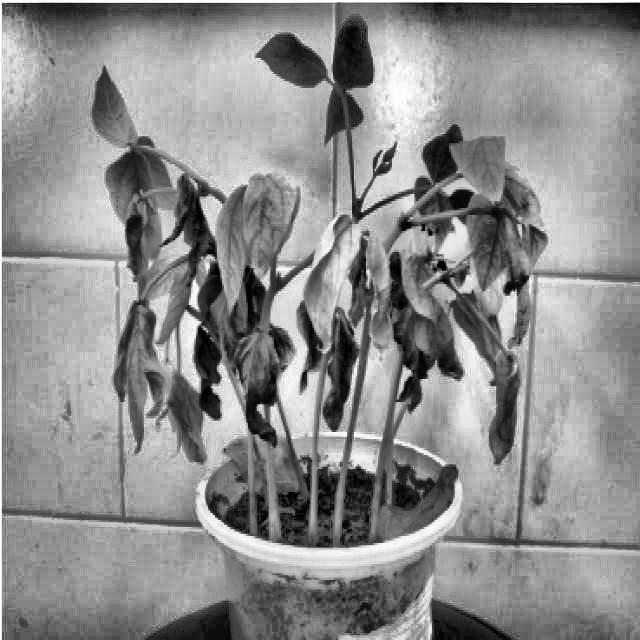plants: (77, 143, 606, 638), (387, 289, 458, 416), (235, 320, 292, 450), (312, 312, 360, 431)
